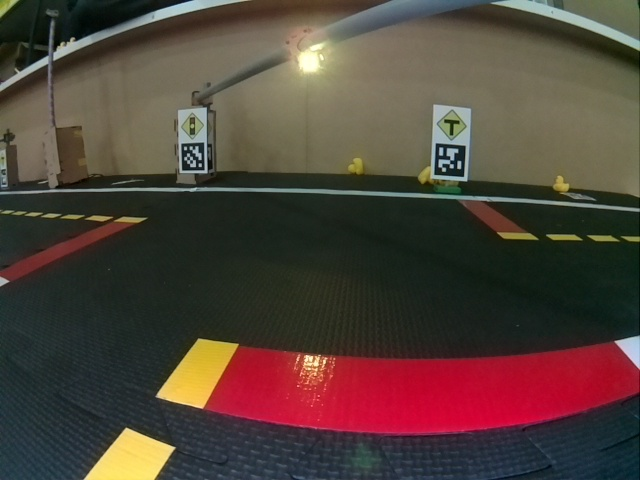Duckie: (418, 166, 433, 184), (554, 176, 569, 192), (348, 158, 363, 174)
Intersection sign: (437, 109, 467, 141)
QR code: (435, 143, 466, 177), (182, 142, 205, 170), (561, 191, 596, 200)
Signal sign: (181, 112, 204, 139)
Traffic light: (288, 26, 324, 69)
